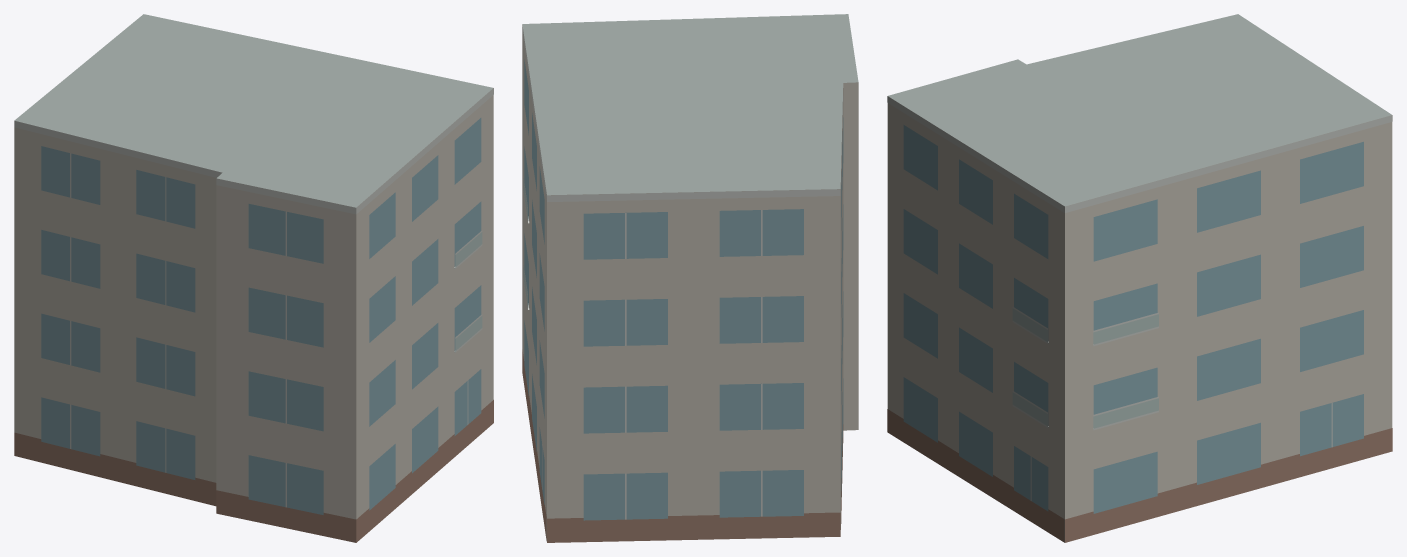
File: survey-upis-32673807.glb
The picture shows the model from 3 angles, left to right: view 1: azimuth 30°, elevation 25°; view 2: azimuth 150°, elevation 25°; view 3: azimuth 270°, elevation 25°; orthographic projection. The views are drawn at different scales.
Parts seen in each view (by area): view 1: survey-upis-32673807.tmp; view 2: survey-upis-32673807.tmp; view 3: survey-upis-32673807.tmp.
Part boxes in pixels (x1,y1,x2,y2): survey-upis-32673807.tmp: (14,14,493,542); survey-upis-32673807.tmp: (522,14,858,542); survey-upis-32673807.tmp: (887,14,1392,542).
Size of the model in its own units: 14.99 by 12.2 by 16.61.
